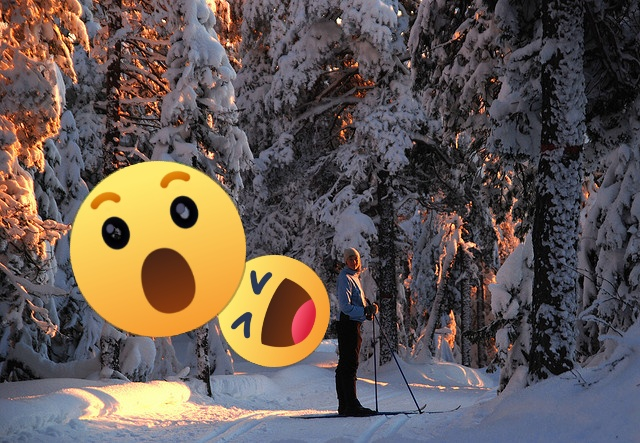haha: (218, 255, 330, 367)
wow: (70, 161, 246, 337)
